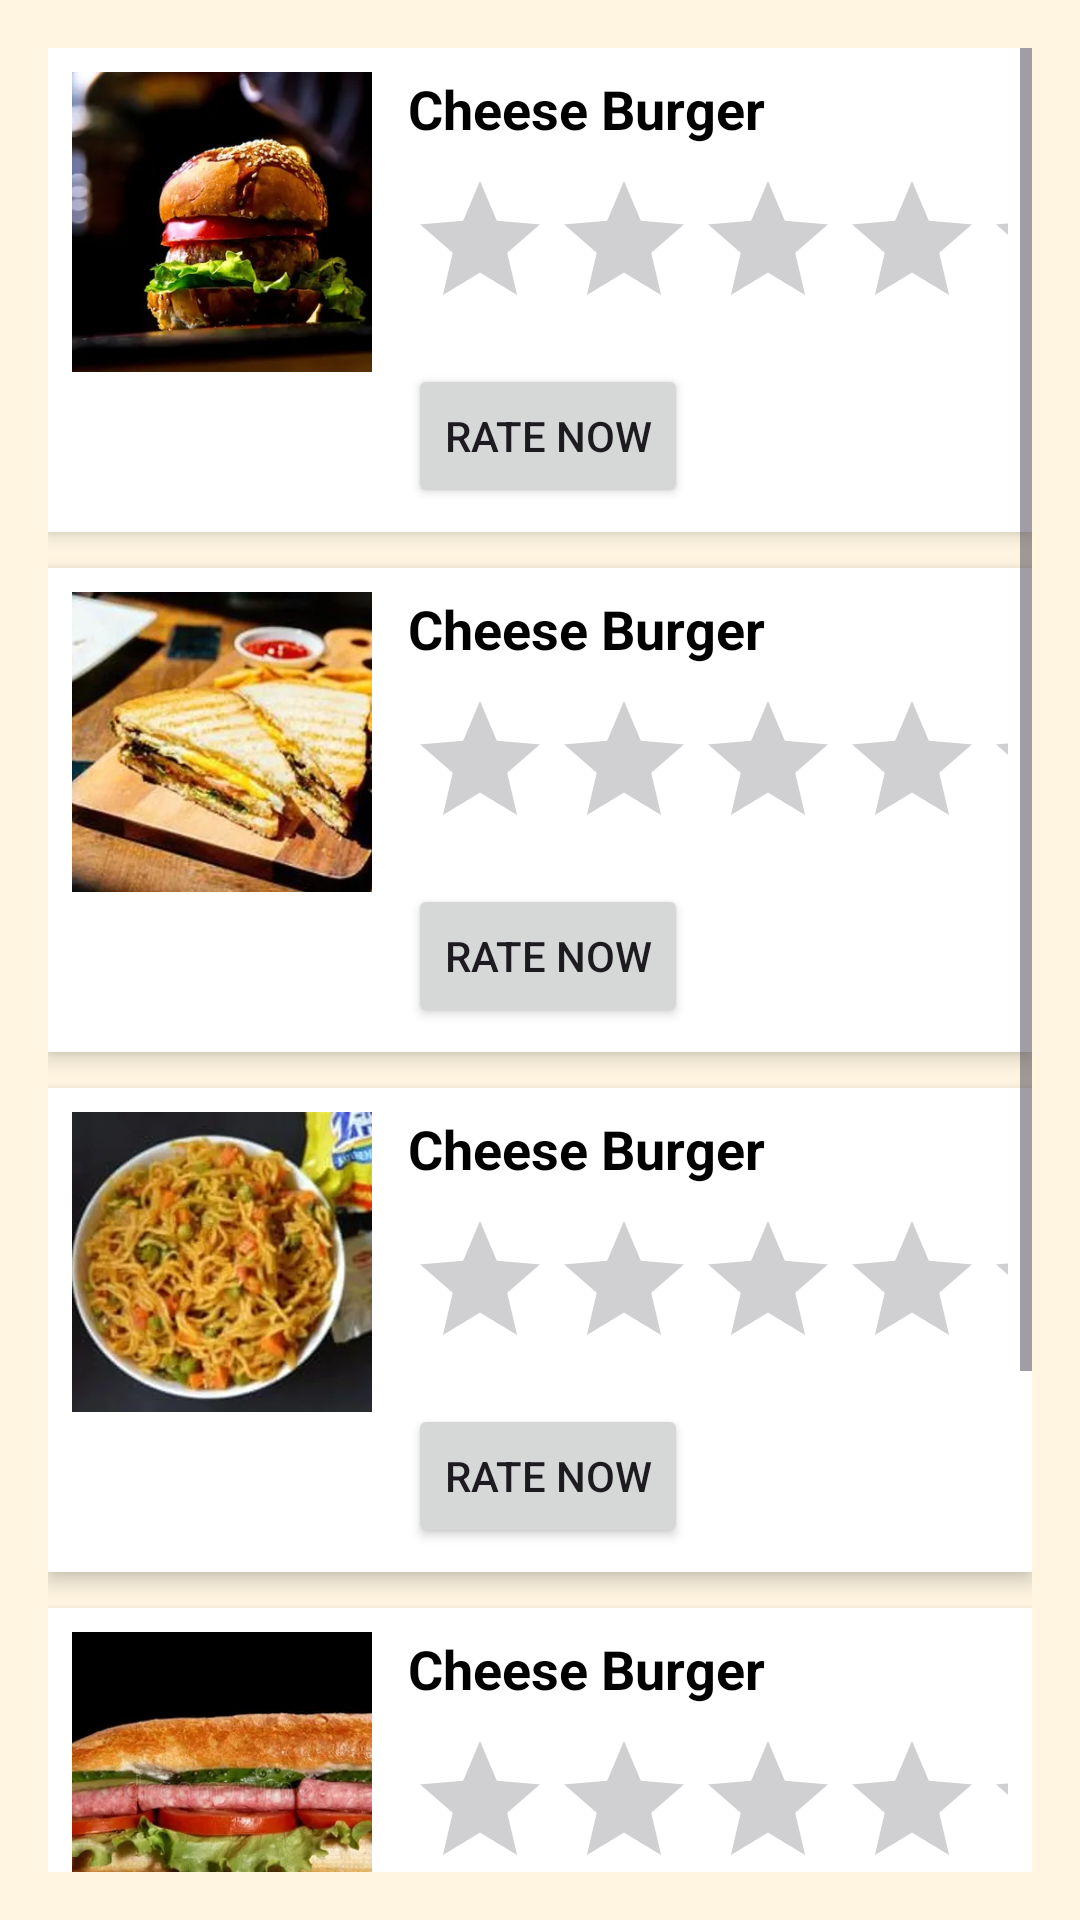

Named icons in this screenshot (1080x1920) and their bounding boxes, (x1, y1, x2, y2):
maggi: (72, 1112, 372, 1412)
sandwich: (72, 592, 372, 892)
subway: (72, 1632, 372, 1920)
